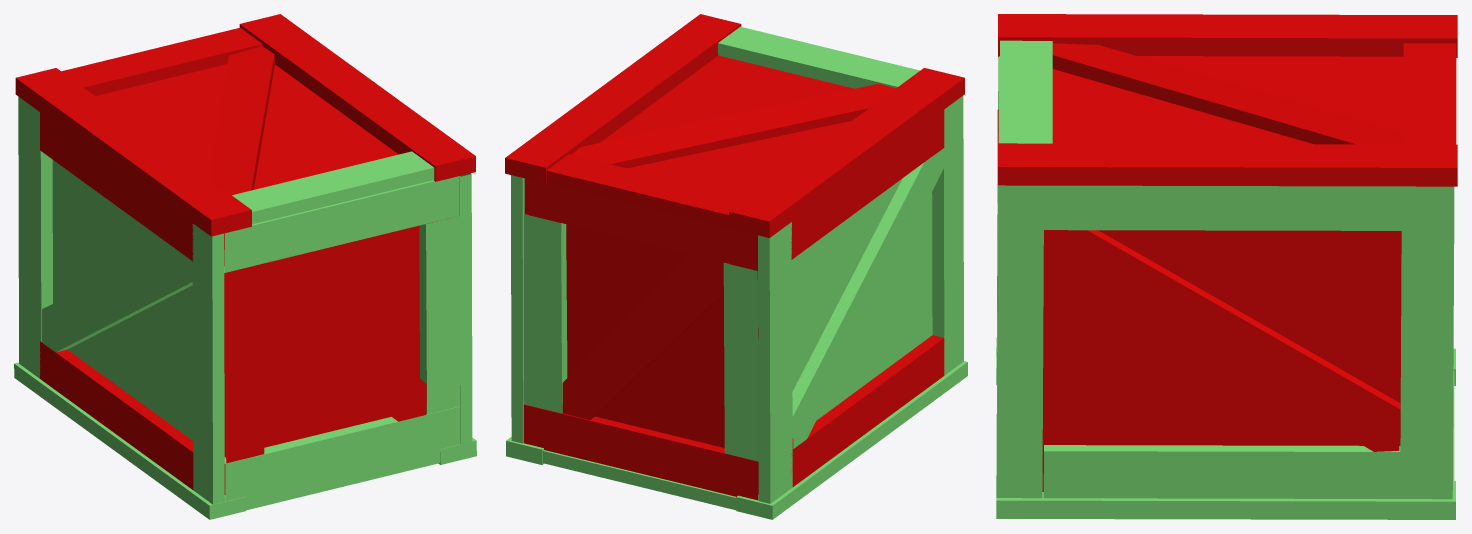
Rendered from Wooden_Box.fbx.
3 views of the same model, side by side, from view 1: azimuth 30°, elevation 25°; view 2: azimuth 150°, elevation 25°; view 3: azimuth 270°, elevation 25° (orthographic). The views are drawn at different scales.
Visible parts, largest first — view 1: Box3; view 2: Box3; view 3: Box3.
Part boxes in pixels (left/top/right/bottom): Box3: left=14, top=14, right=476, bottom=519; Box3: left=505, top=14, right=967, bottom=519; Box3: left=996, top=14, right=1457, bottom=519.
Size of the model in its own units: 2.29 by 2.47 by 2.91.
